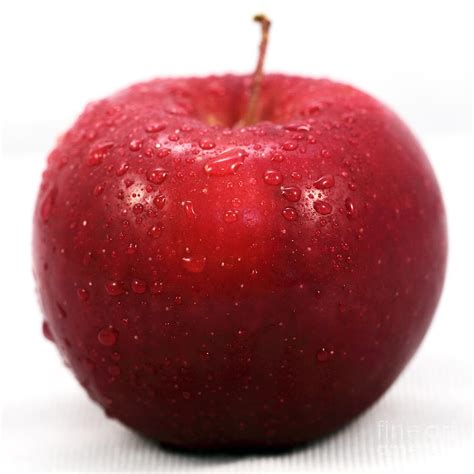apple: (25, 67, 453, 460)
